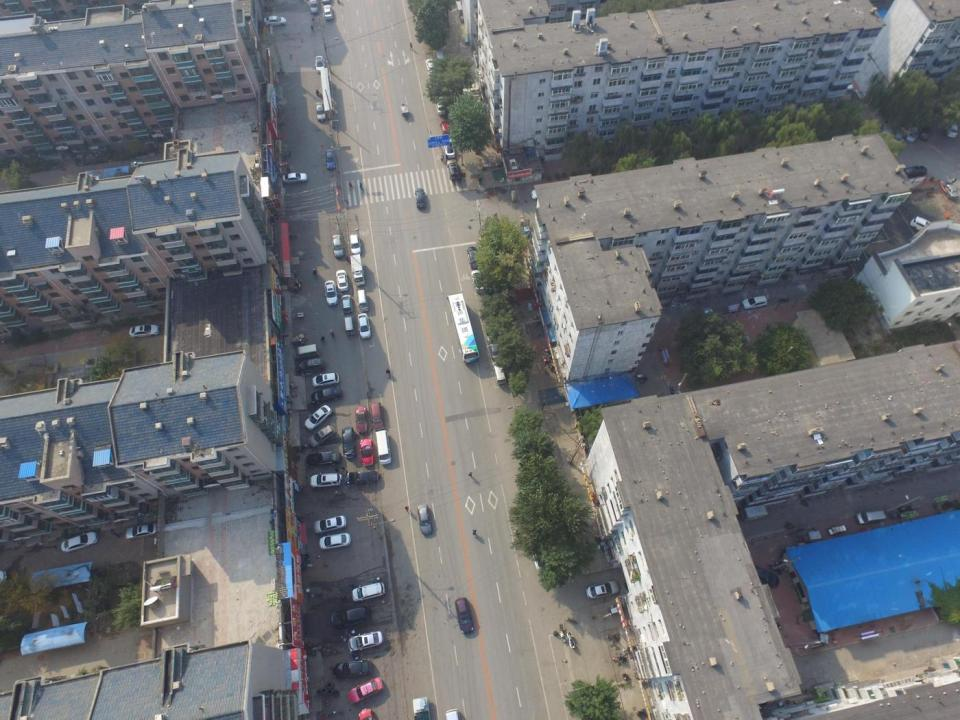bus: (446, 292, 480, 364)
car: (347, 676, 384, 704), (60, 531, 98, 553), (331, 606, 369, 627), (348, 630, 384, 652), (304, 404, 332, 432), (332, 660, 372, 679), (454, 596, 474, 634), (313, 514, 347, 534), (351, 582, 385, 602), (585, 580, 620, 599), (306, 450, 342, 468), (308, 424, 334, 448), (318, 532, 351, 550), (310, 387, 343, 404), (340, 426, 357, 459), (125, 523, 157, 540), (310, 472, 342, 489), (345, 470, 380, 485), (910, 216, 936, 234), (311, 372, 340, 388), (295, 358, 324, 374), (129, 323, 159, 338), (418, 504, 432, 536), (940, 178, 959, 201), (370, 402, 385, 431), (360, 438, 374, 466), (324, 280, 339, 306), (281, 172, 308, 186), (741, 295, 768, 309), (357, 313, 371, 339), (355, 406, 368, 434), (466, 246, 481, 270), (470, 270, 486, 292), (902, 165, 928, 178), (348, 233, 362, 256), (332, 234, 345, 258), (335, 270, 349, 292), (447, 159, 460, 182), (263, 15, 287, 27), (414, 187, 427, 209), (314, 101, 326, 123), (892, 126, 903, 150), (488, 340, 500, 361), (325, 149, 336, 171), (341, 294, 353, 314), (880, 120, 892, 140), (444, 138, 455, 158), (435, 96, 446, 116), (315, 56, 325, 74), (308, 0, 320, 15), (426, 58, 436, 76), (439, 120, 450, 136), (323, 4, 333, 21)
truck: (349, 254, 366, 286)
van: (374, 429, 392, 466), (855, 510, 889, 524), (295, 342, 319, 359), (492, 361, 506, 385), (356, 289, 370, 312), (905, 124, 918, 144), (946, 119, 958, 139), (343, 315, 354, 335)
